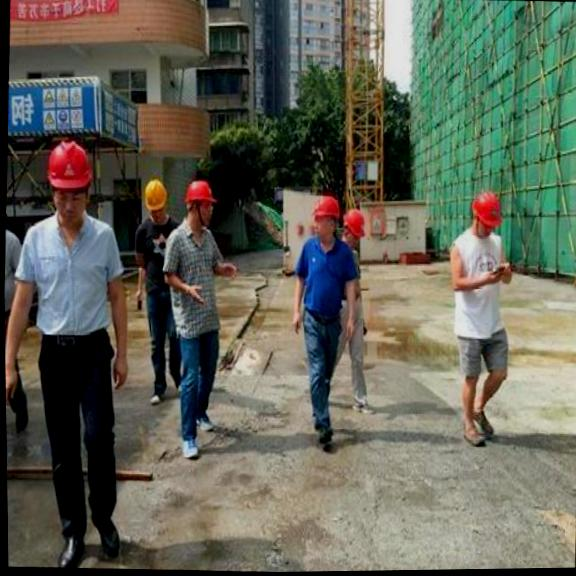no_safety_vest: (11, 214, 121, 349), (159, 225, 225, 336), (446, 228, 509, 336), (288, 230, 357, 318)
